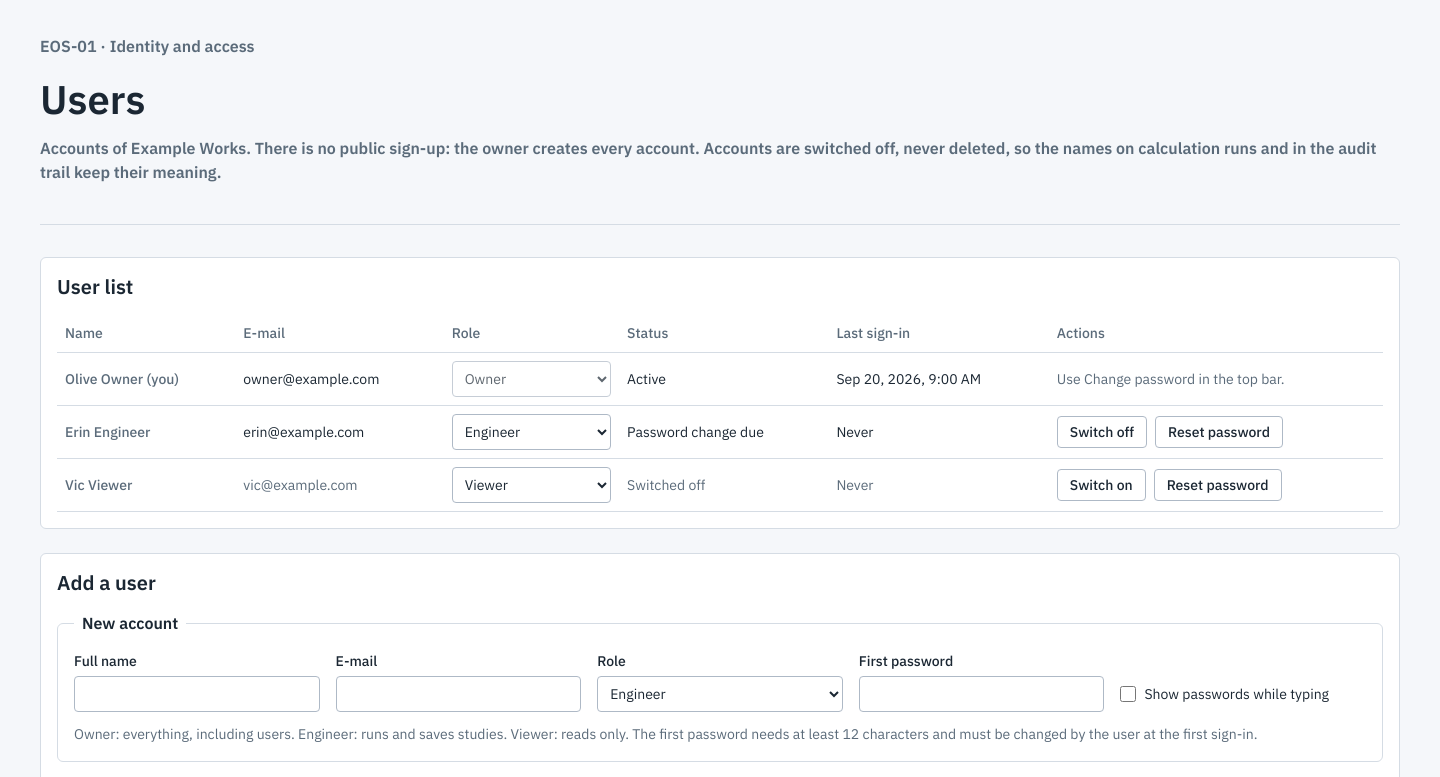
Test: UsersPage › refuses a new user New Person / new@example.com / too short before anything is sent
Type "New Person" into the field labelled "Full name".
click(197, 694); type("New Person")  # box [74,676,320,712]
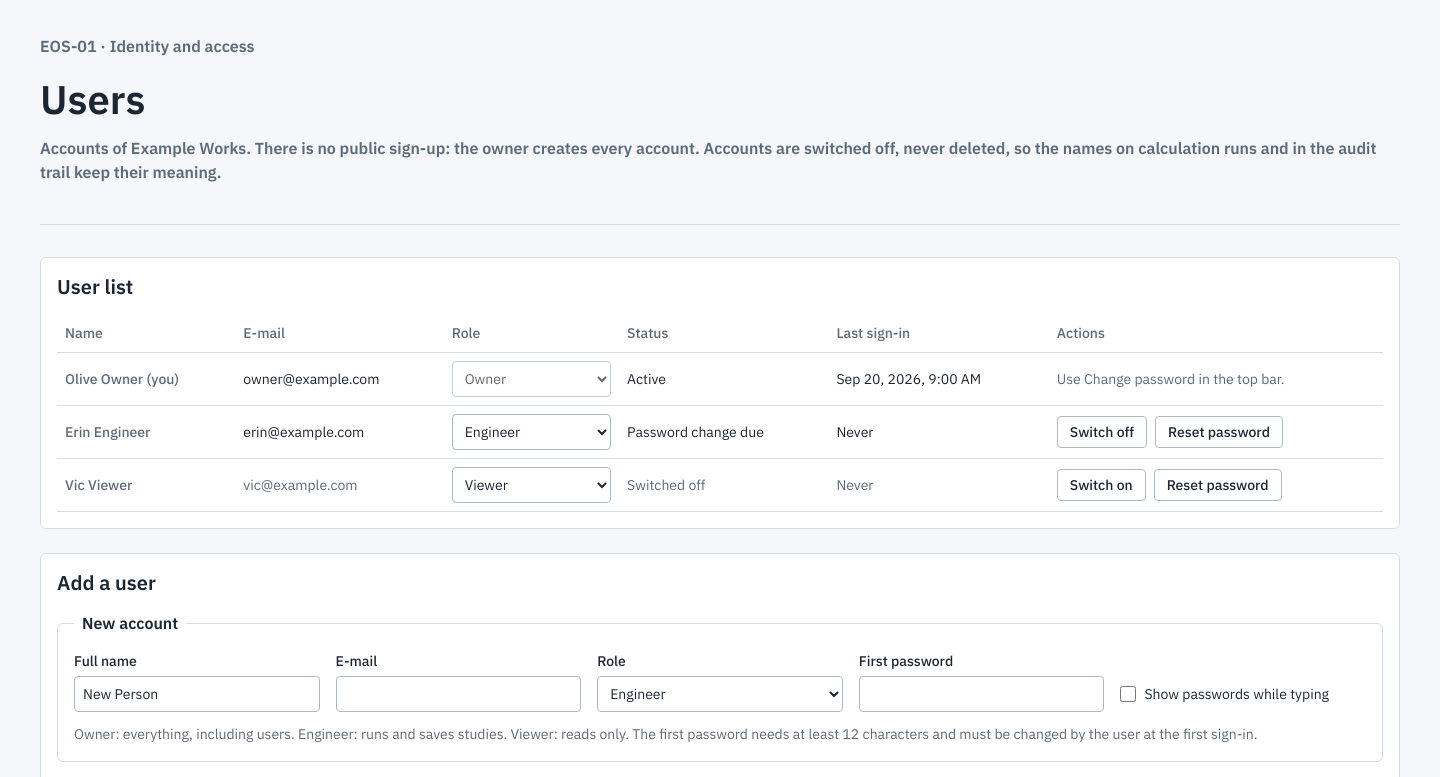
Type "new@example.com" into the field labelled "E-mail".
click(458, 694); type("new@example.com")  # box [336,676,581,712]
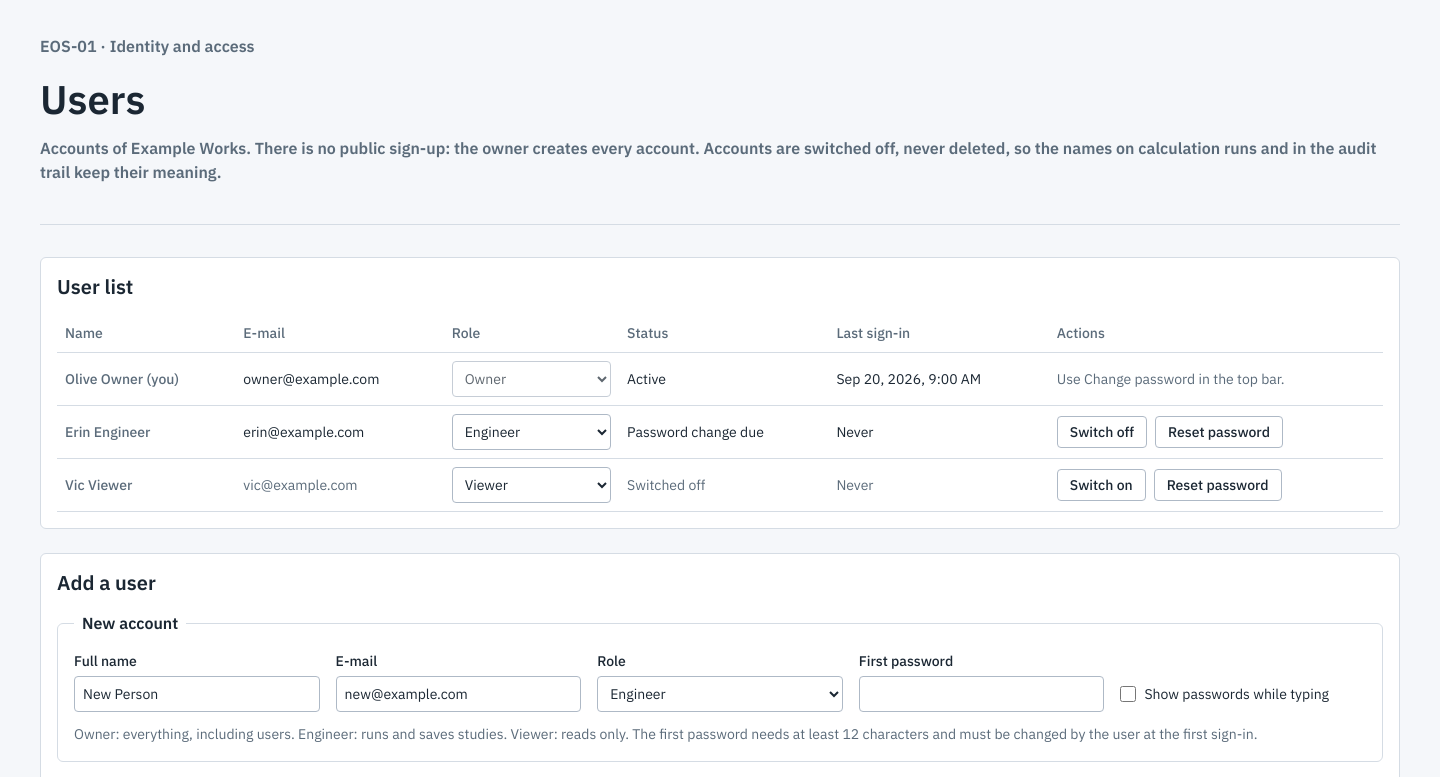
Type "too short" into the password field labelled "First password".
click(982, 694); type("too short")  # box [859,676,1104,712]
(page scrolled)
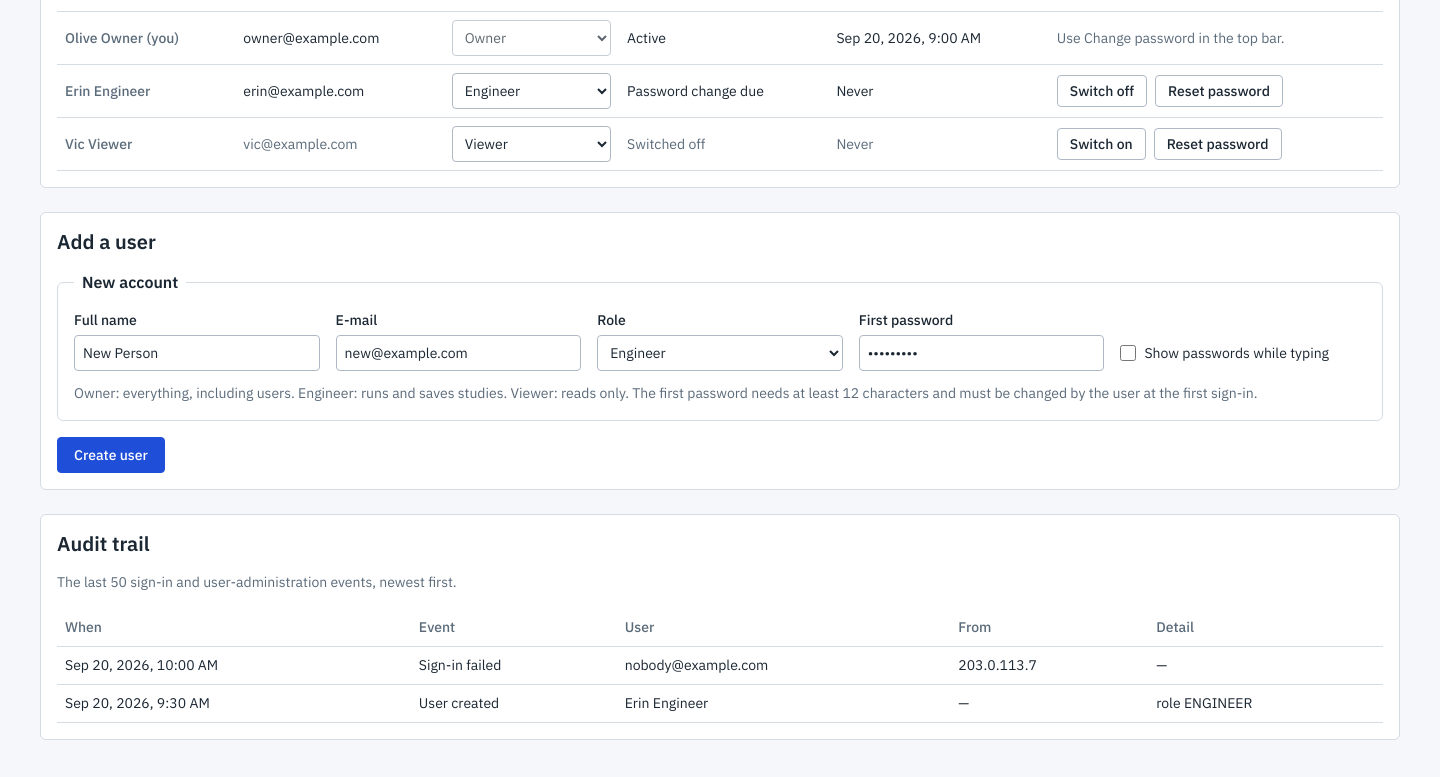
Click the button "Create user".
click(111, 455)  # box [57,437,165,473]
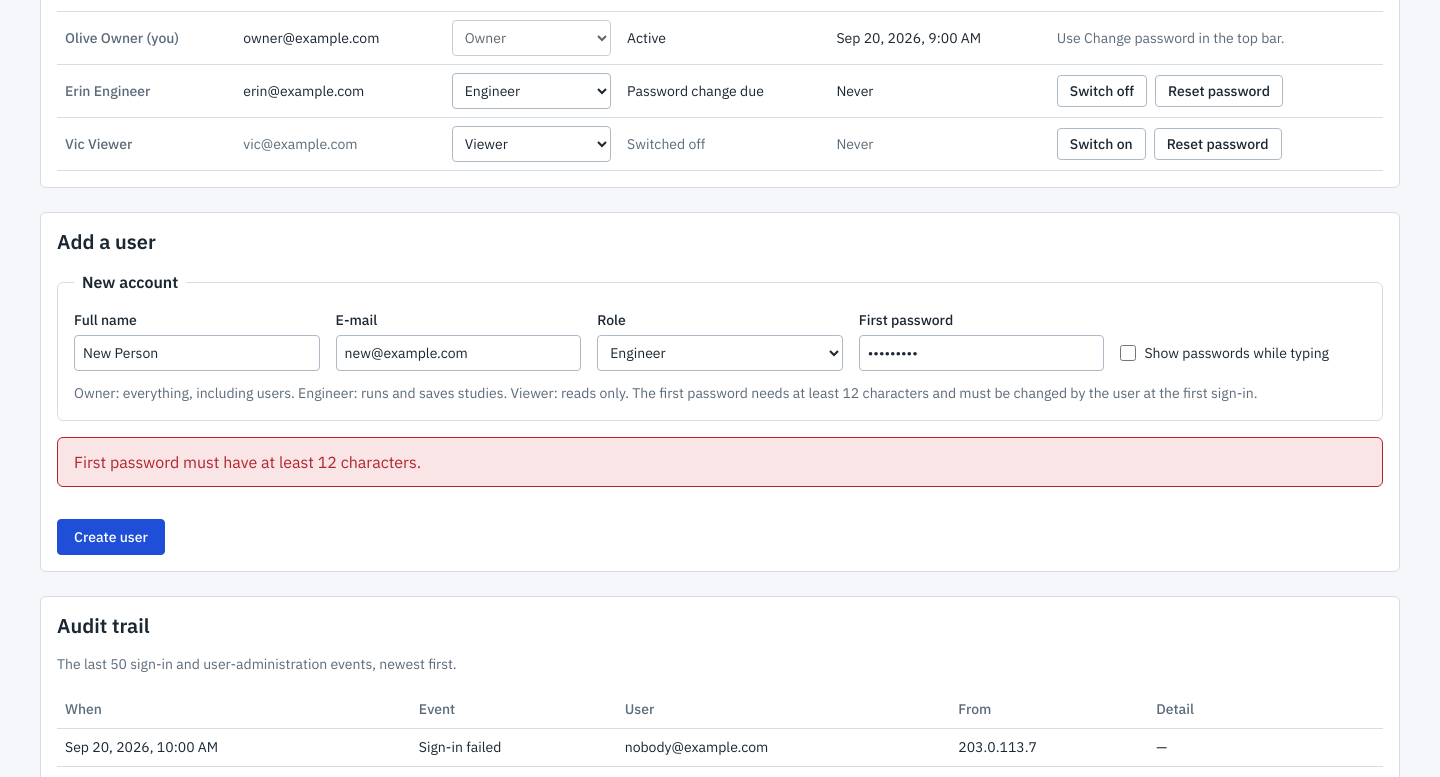
Expected: the message reads "First password must have at least 12 characters.", [74,452,421,472]
